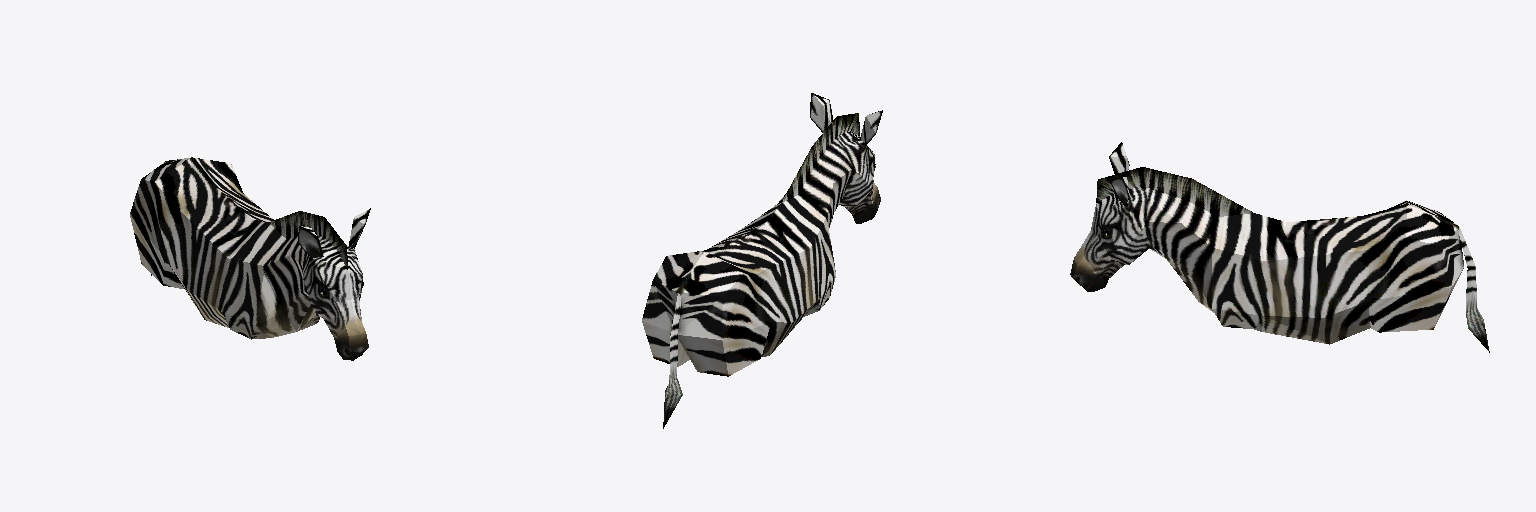
The picture shows the model from 3 angles: view 1: azimuth 30°, elevation 25°; view 2: azimuth 150°, elevation 25°; view 3: azimuth 270°, elevation 25°; orthographic projection.
Parts seen in each view (by area): view 1: Ztorso; view 2: Ztorso; view 3: Ztorso.
Boxes of the visible parts, x1,y1,x2,y2 form: Ztorso: [130, 157, 370, 360]; Ztorso: [642, 93, 882, 428]; Ztorso: [1070, 142, 1489, 352].
Size of the model in its own units: 0.7035 by 1.37 by 2.7.
Materials: 1 (1 with a texture image).